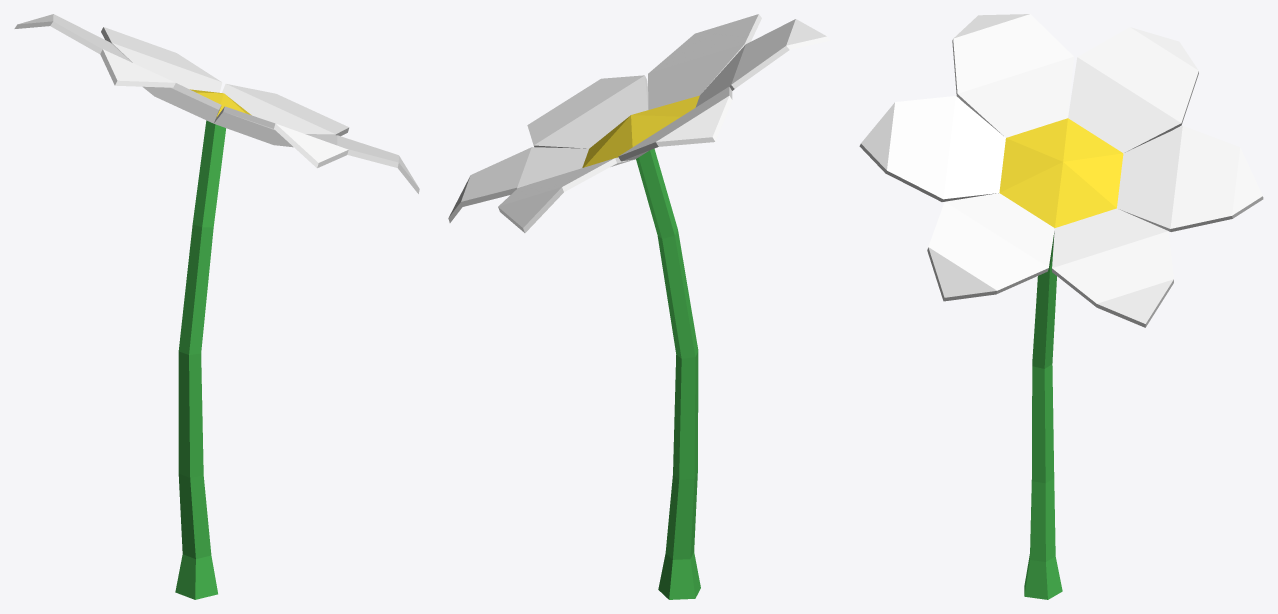
The model's file is Flower.fbx.
3 views of the same model, side by side, from view 1: azimuth 30°, elevation 25°; view 2: azimuth 150°, elevation 25°; view 3: azimuth 270°, elevation 25° (orthographic). The views are drawn at different scales.
Parts seen in each view (by area): view 1: Flower; view 2: Flower; view 3: Flower.
Boxes of the visible parts, x1,y1,x2,y2 form: Flower: (14, 14, 419, 599); Flower: (448, 14, 830, 599); Flower: (859, 14, 1263, 599).
Bounding box in the file's own units: 16.97 × 30.97 × 21.33.
